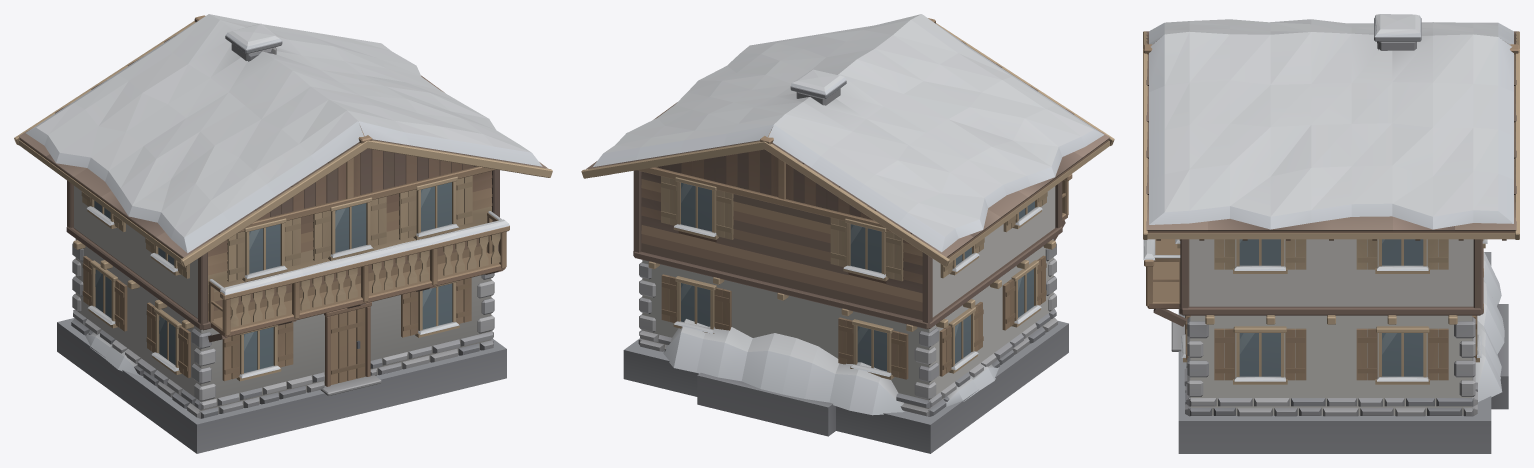
The model's file is chalet.glb.
3 views of the same model, side by side, from view 1: azimuth 30°, elevation 25°; view 2: azimuth 150°, elevation 25°; view 3: azimuth 270°, elevation 25° (orthographic). The views are drawn at different scales.
Size of the model in its own units: 13.71 by 11.02 by 10.8.
